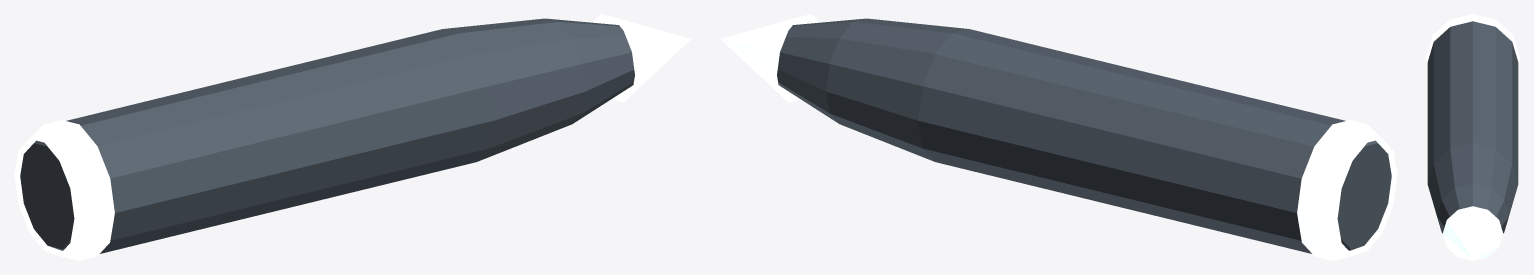
File: auroralance.glb
The picture shows the model from 3 angles, left to right: view 1: azimuth 30°, elevation 25°; view 2: azimuth 150°, elevation 25°; view 3: azimuth 270°, elevation 25°; orthographic projection. The views are drawn at different scales.
Visible parts, largest first — view 1: Projectile / tapered copper-alloy jacket.074, Projectile / rear tracer compound.074, Projectile / luminous nose.074; view 2: Projectile / tapered copper-alloy jacket.074, Projectile / rear tracer compound.074, Projectile / luminous nose.074; view 3: Projectile / tapered copper-alloy jacket.074, Projectile / luminous nose.074, Projectile / rear tracer compound.074.
Part boxes in pixels (x1=…): Projectile / tapered copper-alloy jacket.074: x1=20, y1=18, x2=634, y2=253; Projectile / rear tracer compound.074: x1=14, y1=120, x2=114, y2=260; Projectile / luminous nose.074: x1=593, y1=14, x2=690, y2=102; Projectile / tapered copper-alloy jacket.074: x1=777, y1=18, x2=1391, y2=253; Projectile / rear tracer compound.074: x1=1297, y1=120, x2=1397, y2=260; Projectile / luminous nose.074: x1=721, y1=14, x2=818, y2=102; Projectile / tapered copper-alloy jacket.074: x1=1427, y1=21, x2=1518, y2=233; Projectile / luminous nose.074: x1=1442, y1=206, x2=1503, y2=260; Projectile / rear tracer compound.074: x1=1426, y1=14, x2=1519, y2=65.
Size of the model in its own units: 0.424 by 0.08 by 0.08.
